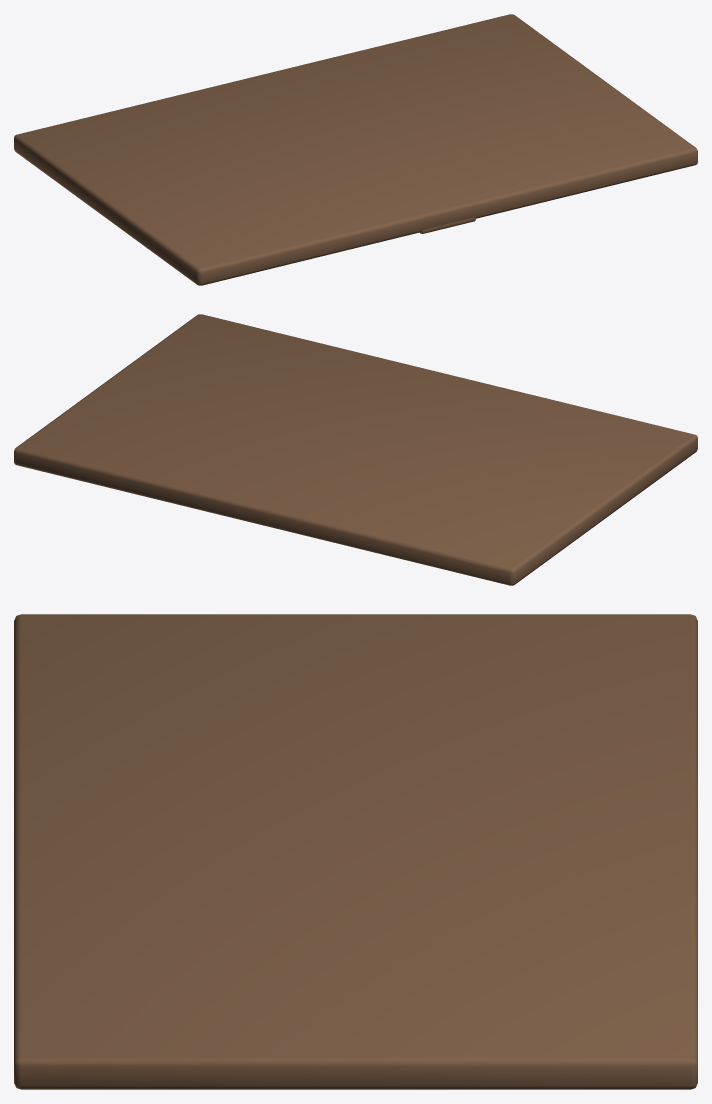
Rendered from fx_cigar_lid.glb.
The picture shows the model from 3 angles, top to bottom: view 1: azimuth 30°, elevation 25°; view 2: azimuth 150°, elevation 25°; view 3: azimuth 270°, elevation 25°; orthographic projection. The views are drawn at different scales.
Visible parts, largest first — view 1: fx_cigar_lid; view 2: fx_cigar_lid; view 3: fx_cigar_lid.
Boxes of the visible parts, left/top/right/bottom form: fx_cigar_lid: left=14, top=14, right=697, bottom=285; fx_cigar_lid: left=14, top=314, right=697, bottom=585; fx_cigar_lid: left=14, top=614, right=697, bottom=1089.
Bounding box in the file's own units: 0.45 × 0.0165 × 0.29.
